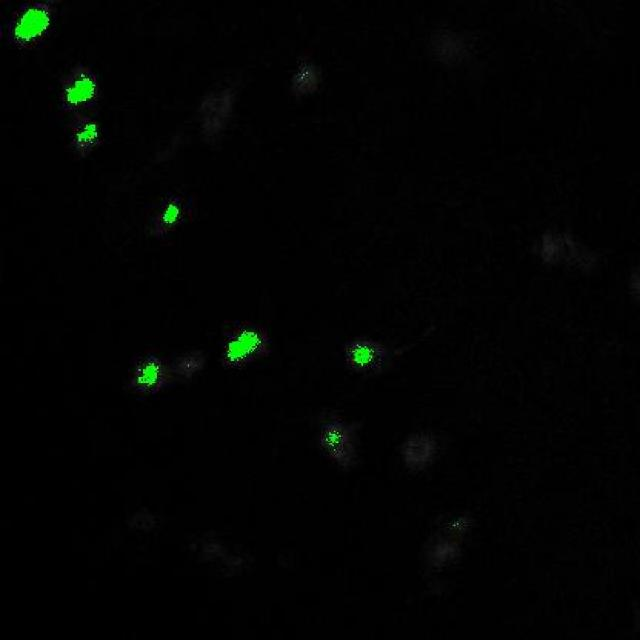Cell: (225, 333, 263, 361), (16, 10, 48, 38), (66, 76, 96, 104), (138, 363, 158, 388), (164, 202, 181, 226), (356, 346, 373, 367)
